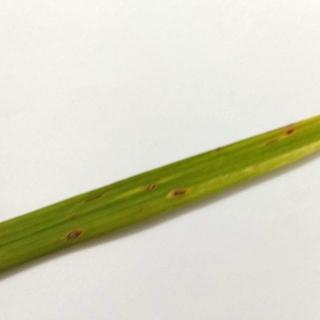Blast: (267, 120, 315, 156), (149, 180, 198, 206), (54, 221, 93, 249)
